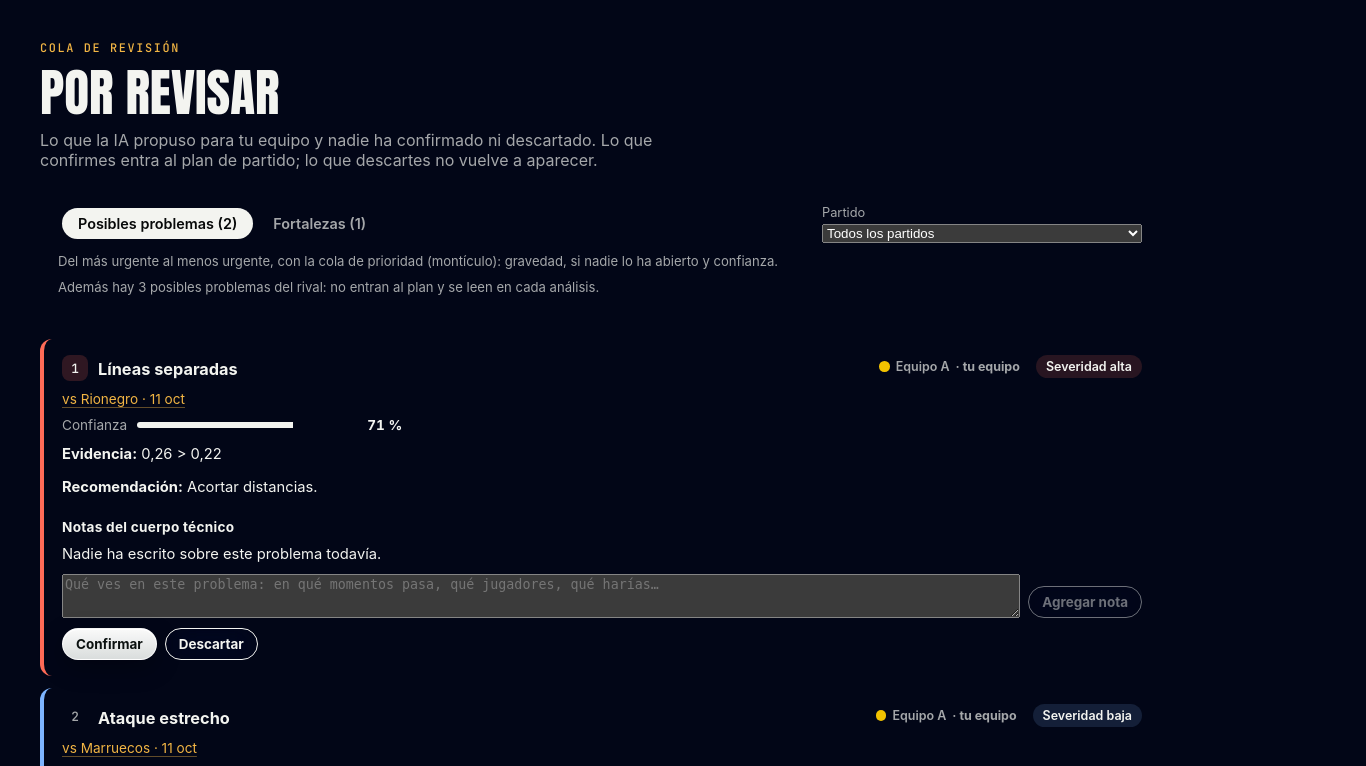
ReviewInboxPage › confirming removes the item and tells it counts for the plan
Check: the heading "1 Líneas separadas" is shown, box [62,355,238,381]
Click the button "Confirmar" at [109, 644], box [62,628,157,660]
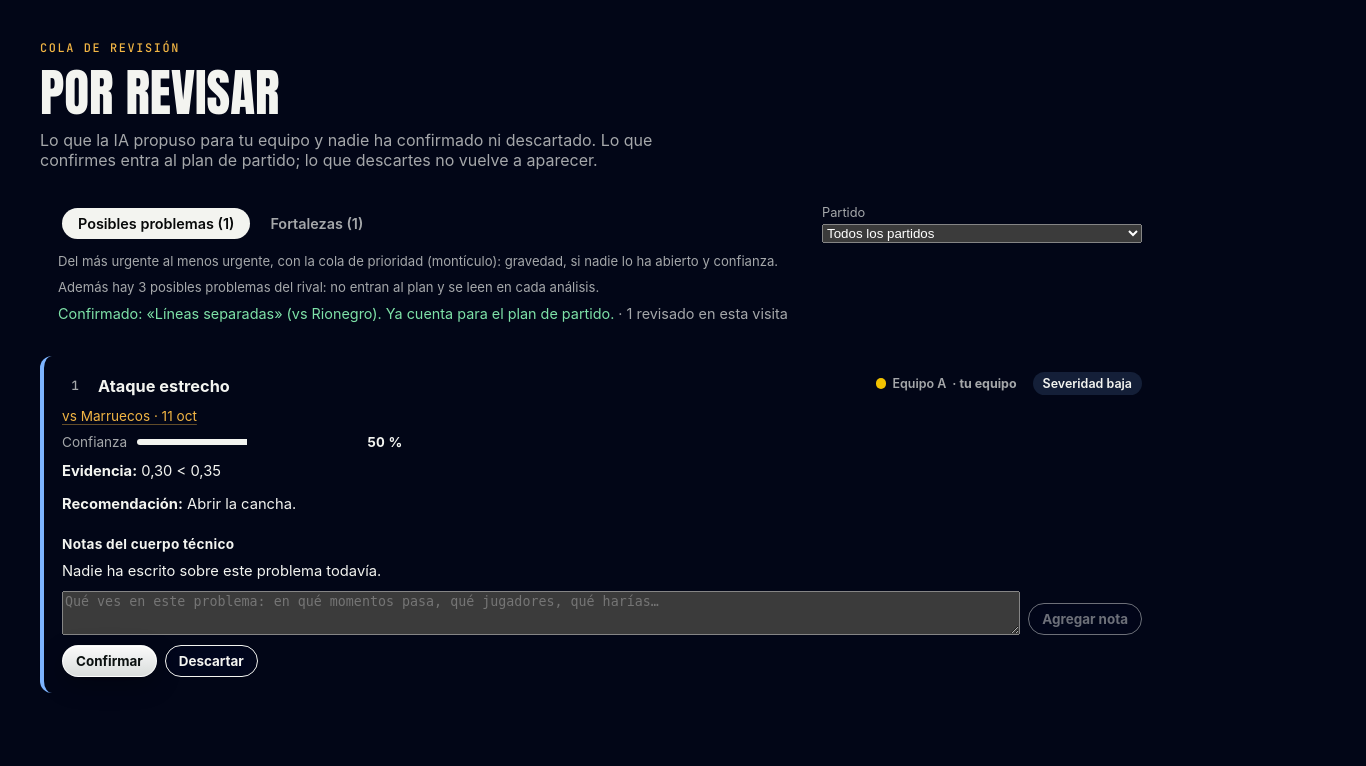
Check: the text "Confirmado: «Líneas separadas» (vs Rionegro)" is shown, box [58,305,614,322]
Check: the tab "Posibles problemas (1)" is shown, box [62,208,250,239]
